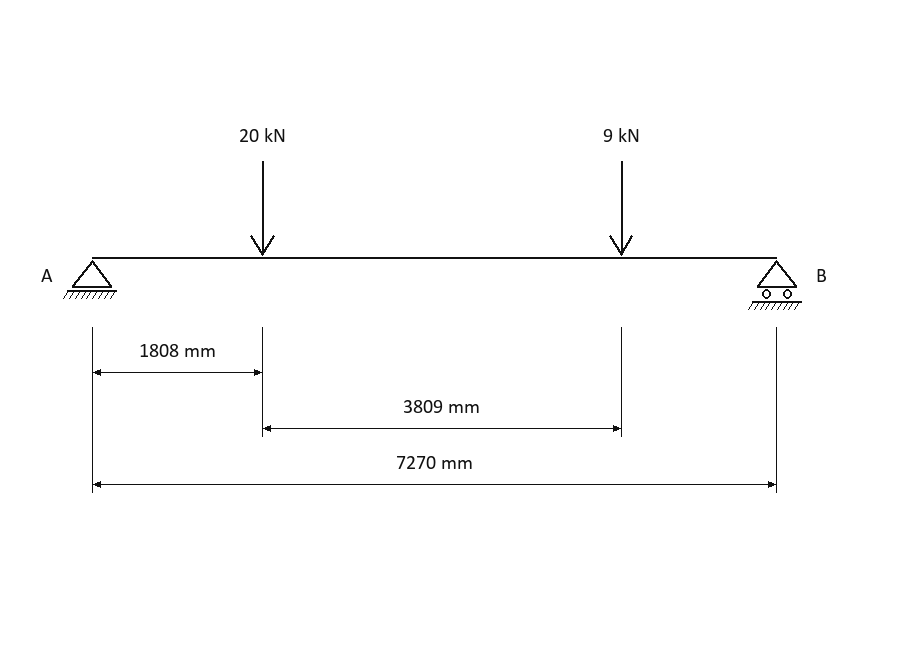pin_support: (63, 260, 117, 299)
point_load: (250, 161, 275, 256), (609, 161, 633, 256)
roller_support: (748, 260, 802, 310)
